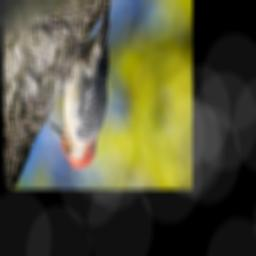Woodpecker: (44, 5, 110, 169)
